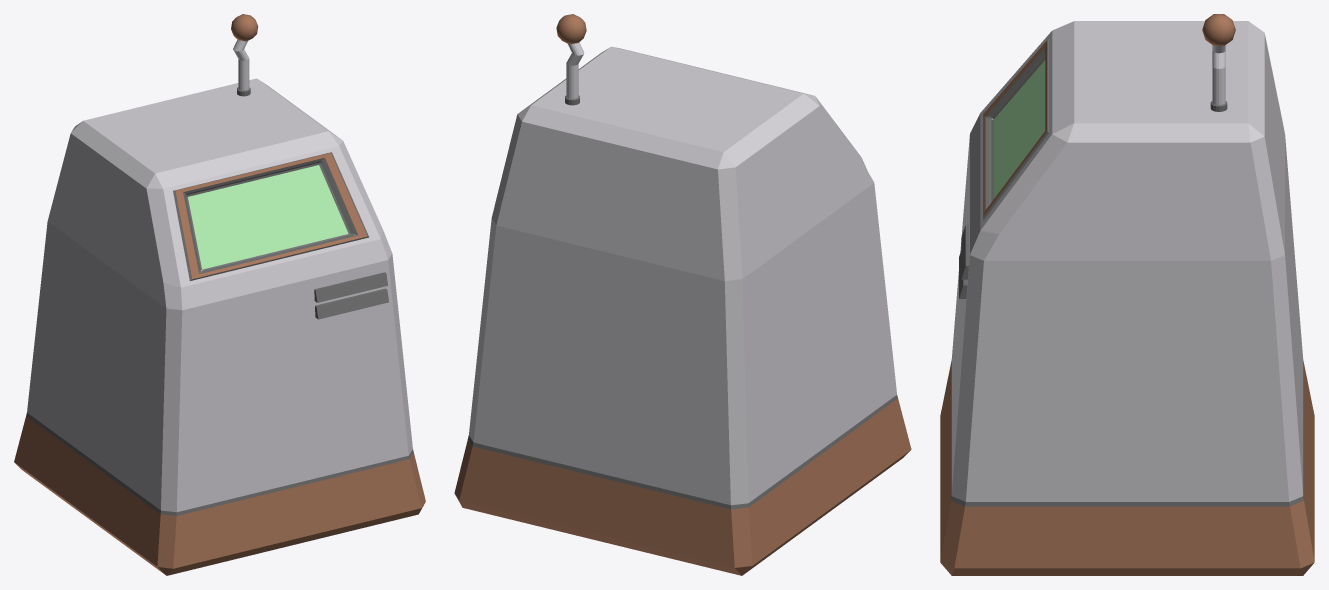
The model's file is botCowboy.fbx.
The picture shows the model from 3 angles, left to right: view 1: azimuth 30°, elevation 25°; view 2: azimuth 150°, elevation 25°; view 3: azimuth 270°, elevation 25°; orthographic projection. The views are drawn at different scales.
Parts seen in each view (by area): view 1: Bot - Cowboy; view 2: Bot - Cowboy; view 3: Bot - Cowboy.
Boxes of the visible parts, bbox=[...] form: Bot - Cowboy: bbox=[14, 14, 425, 575]; Bot - Cowboy: bbox=[454, 14, 911, 575]; Bot - Cowboy: bbox=[940, 14, 1314, 575].
Size of the model in its own units: 82.85 by 82.85 by 128.
